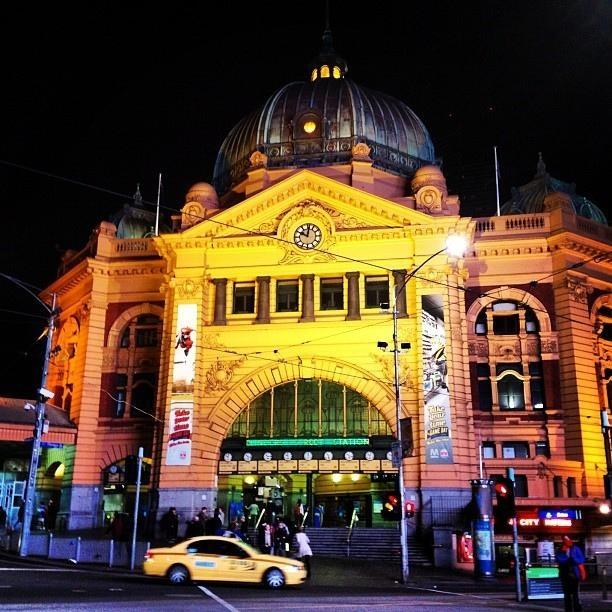car: (148, 540, 314, 584)
